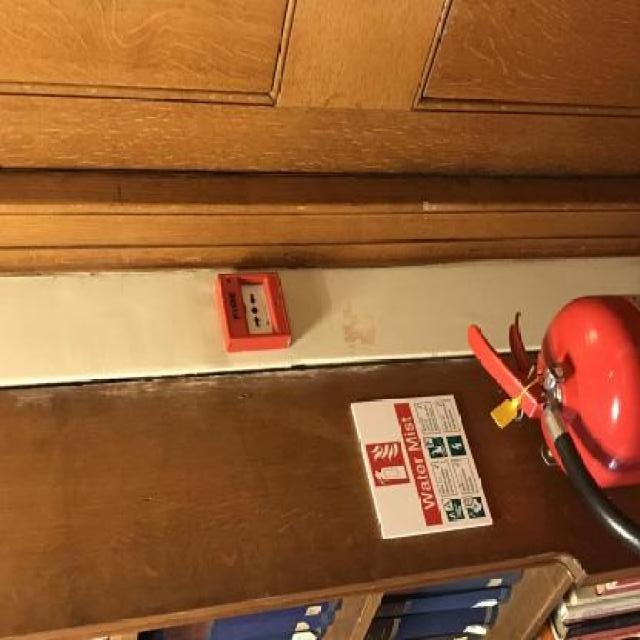fire extinguisher: (464, 269, 640, 557)
